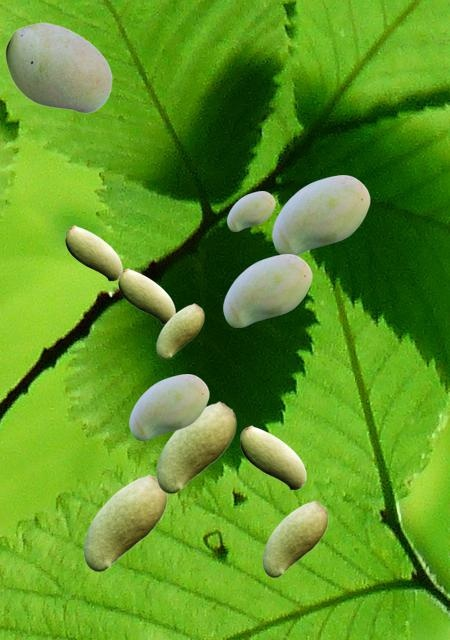green_mango: (5, 22, 111, 112), (83, 474, 166, 570), (272, 175, 369, 255), (156, 401, 235, 492), (223, 254, 311, 326), (129, 374, 208, 439), (262, 500, 327, 576), (240, 425, 305, 489), (118, 268, 174, 323), (65, 225, 121, 280), (156, 303, 203, 358), (227, 191, 274, 230)
